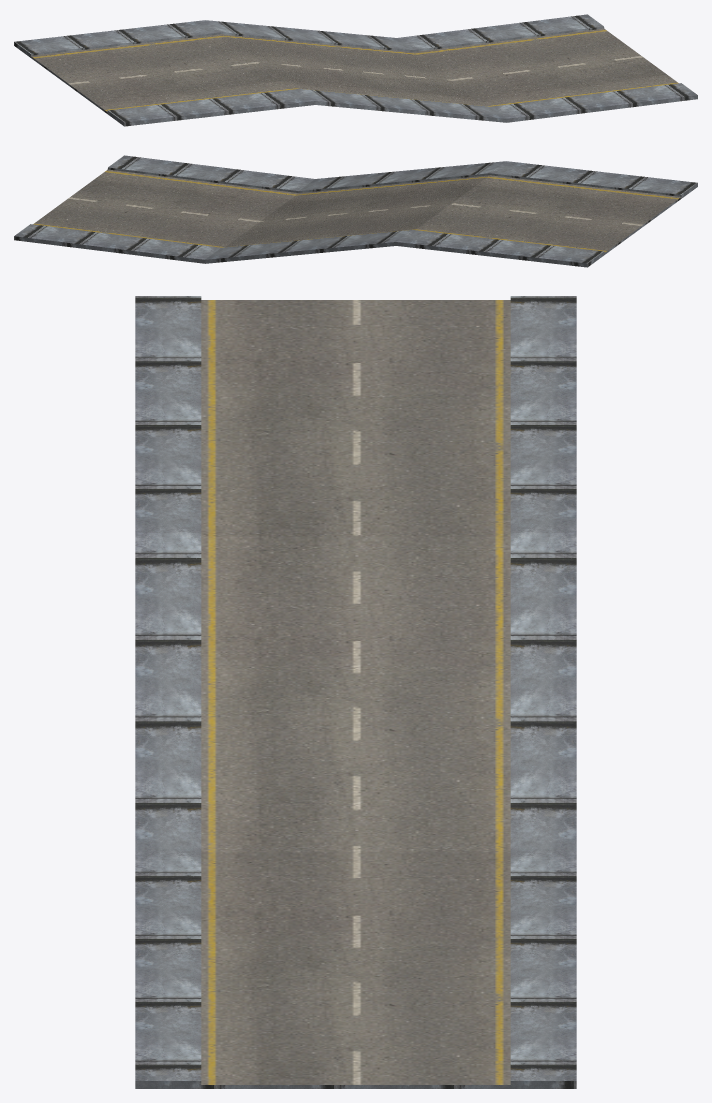
The model's file is Urban_Road1Slope_Model.fbx.
3 views of the same model, one above another, from view 1: azimuth 30°, elevation 25°; view 2: azimuth 150°, elevation 25°; view 3: azimuth 270°, elevation 25° (orthographic). The views are drawn at different scales.
Parts seen in each view (by area): view 1: Urban_Road1Slope_Mesh; view 2: Urban_Road1Slope_Mesh; view 3: Urban_Road1Slope_Mesh.
Boxes of the visible parts, box(x1,y1,x2,y2) form: Urban_Road1Slope_Mesh: box(14, 14, 697, 126); Urban_Road1Slope_Mesh: box(14, 155, 697, 267); Urban_Road1Slope_Mesh: box(135, 296, 576, 1088).
Bounding box in the file's own units: 48 × 9.32 × 16.
